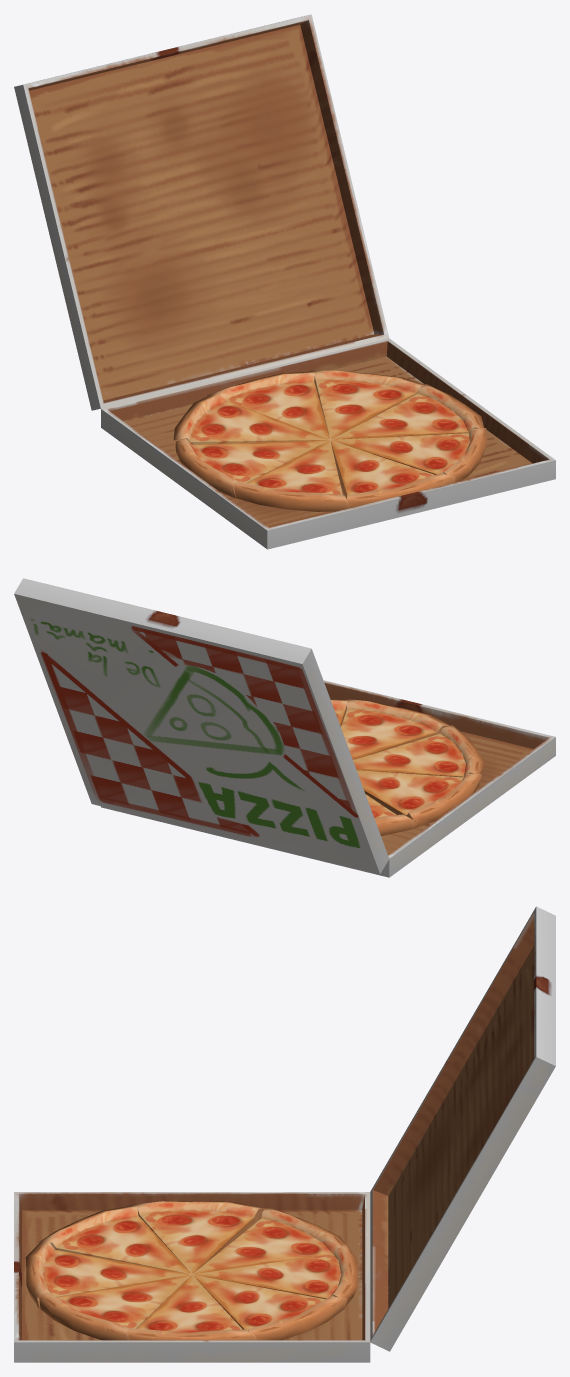
Rendered from pizzaboxfull.fbx.
3 views of the same model, one above another, from view 1: azimuth 30°, elevation 25°; view 2: azimuth 150°, elevation 25°; view 3: azimuth 270°, elevation 25° (orthographic). The views are drawn at different scales.
Visible parts, largest first — view 1: Cube.005, pizzaboxfull, Cylinder.017, Cylinder.020, Cylinder.016, Cylinder.022, Cylinder.021, Cylinder.023, Cylinder.019, Cylinder.002, Cylinder.018; view 2: Cube.005, pizzaboxfull, Cylinder.017, Cylinder.023, Cylinder.002, Cylinder.018, Cylinder.016; view 3: Cube.005, pizzaboxfull, Cylinder.022, Cylinder.020, Cylinder.017, Cylinder.023, Cylinder.016, Cylinder.019, Cylinder.021, Cylinder.002, Cylinder.018.
Part boxes in pixels (x1=…): Cube.005: x1=14, y1=14, x2=389, y2=410; pizzaboxfull: x1=101, y1=338, x2=555, y2=549; Cylinder.017: x1=230, y1=440, x2=348, y2=511; Cylinder.020: x1=310, y1=370, x2=424, y2=439; Cylinder.016: x1=173, y1=393, x2=329, y2=450; Cylinder.022: x1=331, y1=428, x2=487, y2=482; Cylinder.021: x1=330, y1=384, x2=483, y2=439; Cylinder.023: x1=330, y1=440, x2=455, y2=508; Cylinder.019: x1=206, y1=371, x2=330, y2=439; Cylinder.002: x1=175, y1=439, x2=329, y2=497; Cylinder.018: x1=176, y1=440, x2=329, y2=498; Cube.005: x1=14, y1=578, x2=389, y2=874; pizzaboxfull: x1=101, y1=680, x2=555, y2=877; Cylinder.017: x1=353, y1=725, x2=484, y2=786; Cylinder.023: x1=341, y1=699, x2=450, y2=759; Cylinder.002: x1=358, y1=772, x2=481, y2=828; Cylinder.018: x1=356, y1=770, x2=481, y2=828; Cylinder.016: x1=365, y1=794, x2=413, y2=835; Cube.005: x1=370, y1=906, x2=555, y2=1351; pizzaboxfull: x1=14, y1=1192, x2=370, y2=1362; Cylinder.022: x1=37, y1=1274, x2=191, y2=1340; Cylinder.020: x1=192, y1=1274, x2=346, y2=1340; Cylinder.017: x1=38, y1=1206, x2=191, y2=1274; Cylinder.023: x1=25, y1=1242, x2=191, y2=1308; Cylinder.016: x1=192, y1=1207, x2=345, y2=1274; Cylinder.019: x1=192, y1=1244, x2=357, y2=1310; Cylinder.021: x1=127, y1=1275, x2=256, y2=1340; Cylinder.002: x1=133, y1=1201, x2=264, y2=1273; Cylinder.018: x1=129, y1=1201, x2=260, y2=1273.
Bounding box in the file's own units: 48.59 × 46.03 × 73.95.
